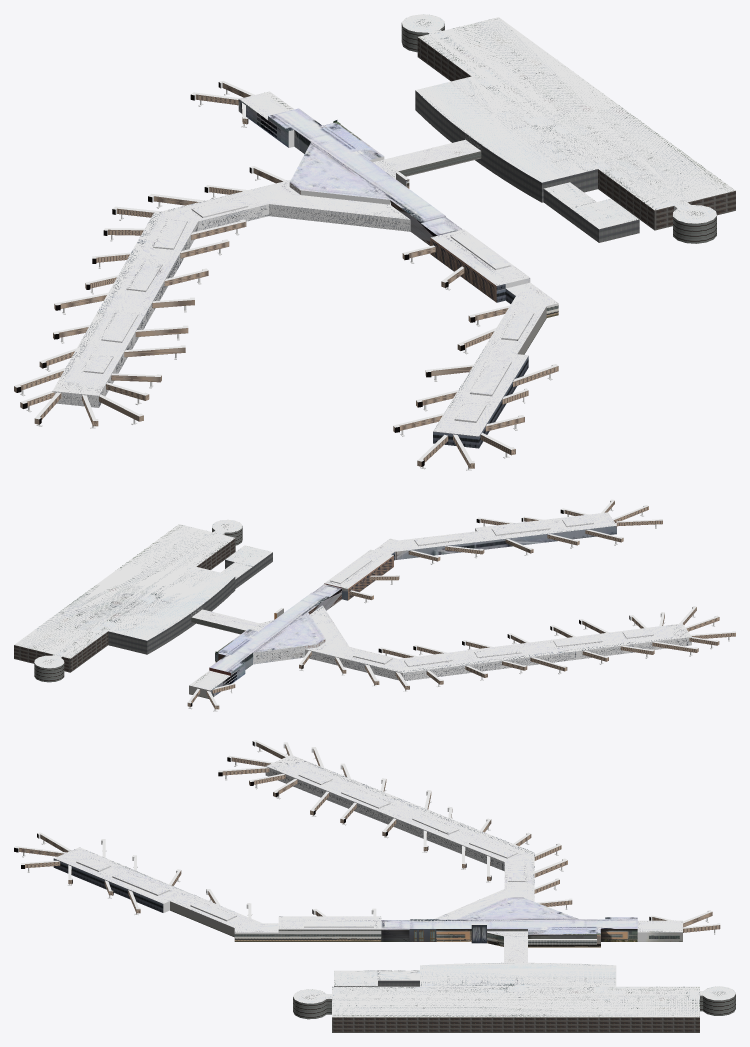
The model's file is Midway-Airport.dae.
The picture shows the model from 3 angles, top to bottom: view 1: azimuth 30°, elevation 25°; view 2: azimuth 150°, elevation 25°; view 3: azimuth 270°, elevation 25°; orthographic projection. The views are drawn at different scales.
Parts seen in each view (by area): view 1: SketchUp (×16); view 2: SketchUp (×21); view 3: SketchUp (×16).
Part boxes in pixels (bbox=[...]): SketchUp (×16): bbox=[52, 14, 735, 448]; SketchUp (×21): bbox=[14, 512, 691, 690]; SketchUp (×16): bbox=[53, 755, 735, 1032].
Size of the model in its own units: 22702 by 24392 by 688.
